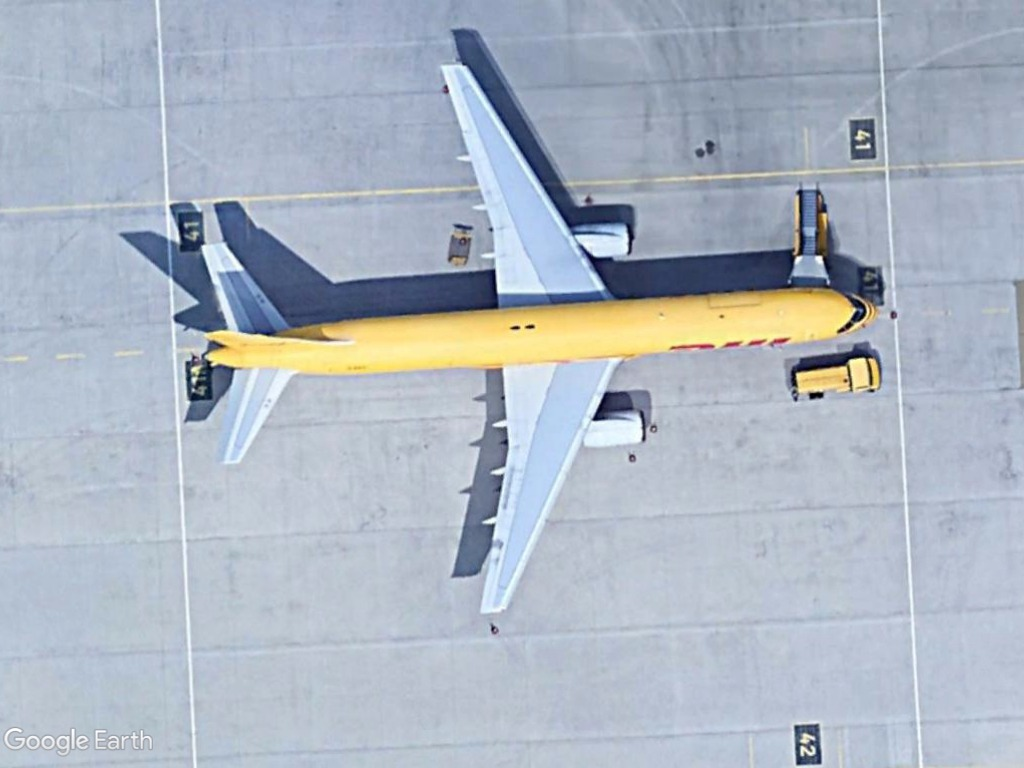airliner: (180, 51, 892, 639)
other: (787, 346, 893, 404)
stairtruck: (780, 181, 841, 289)
